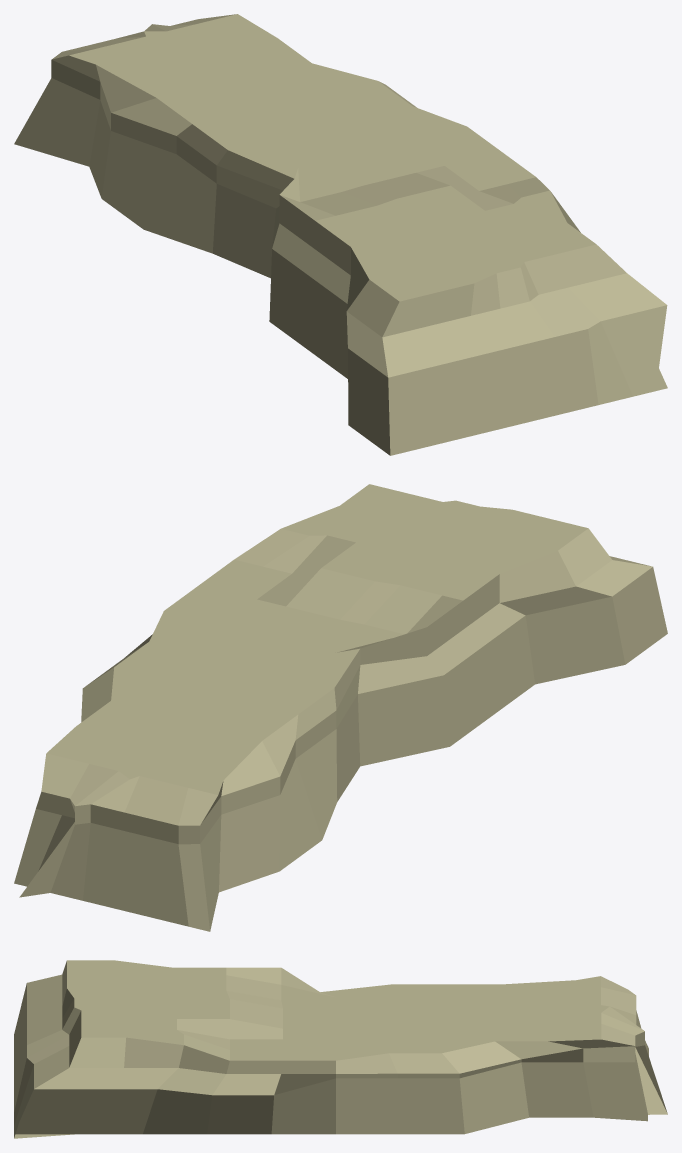
The model's file is island22.fbx.
3 renders of one model, top to bottom at view 1: azimuth 30°, elevation 25°; view 2: azimuth 150°, elevation 25°; view 3: azimuth 270°, elevation 25°, orthographic. The views are drawn at different scales.
Parts seen in each view (by area): view 1: pCube1; view 2: pCube1; view 3: pCube1.
Part boxes in pixels (bbox=[...]): pCube1: bbox=[14, 14, 667, 455]; pCube1: bbox=[14, 484, 667, 931]; pCube1: bbox=[14, 960, 667, 1138].
Size of the model in its own units: 34.7 by 12.83 by 83.64.
